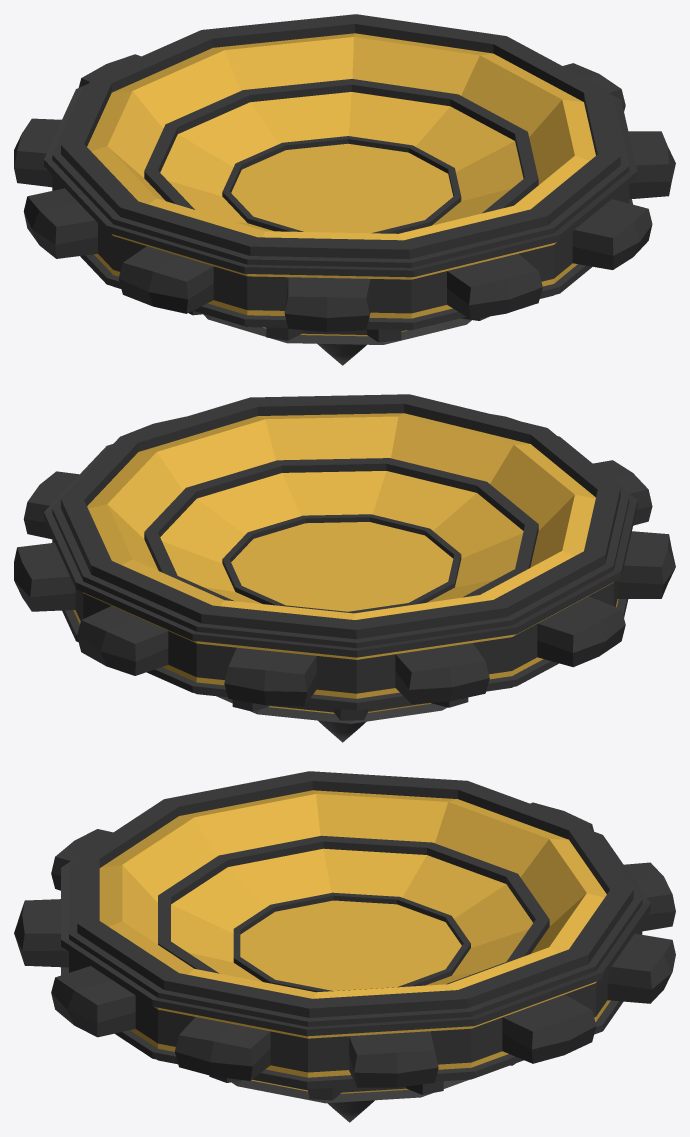
The model's file is Toupie3.fbx.
3 views of the same model, one above another, from view 1: azimuth 30°, elevation 25°; view 2: azimuth 150°, elevation 25°; view 3: azimuth 270°, elevation 25° (orthographic).
Parts seen in each view (by area): view 1: Cylinder.005, Cylinder.006, Cylinder.007; view 2: Cylinder.005, Cylinder.006; view 3: Cylinder.005, Cylinder.006, Cylinder.007.
Part boxes in pixels (<box>): Cylinder.005: <box>14,14,675,331</box>; Cylinder.006: <box>189,311,489,344</box>; Cylinder.007: <box>317,343,366,365</box>; Cylinder.005: <box>14,394,675,710</box>; Cylinder.006: <box>217,696,468,723</box>; Cylinder.005: <box>14,771,675,1089</box>; Cylinder.006: <box>209,1063,515,1103</box>; Cylinder.007: <box>328,1100,374,1122</box>.
Size of the model in its own units: 735 by 284 by 732.
